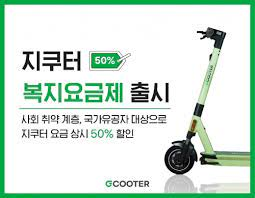kick_body: (206, 150, 249, 166)
kick_handler: (198, 26, 225, 49)
kick_neck: (189, 51, 218, 130)
kick_wheel: (166, 146, 194, 174)
